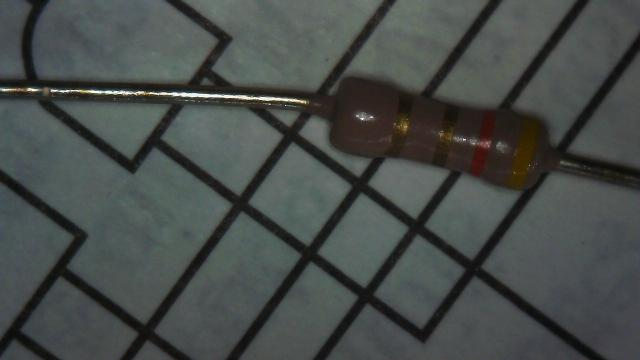gold: (386, 91, 413, 156), (432, 103, 458, 166)
orange: (469, 109, 496, 176)
resistor: (324, 48, 559, 218)
yellow: (508, 115, 540, 189)
